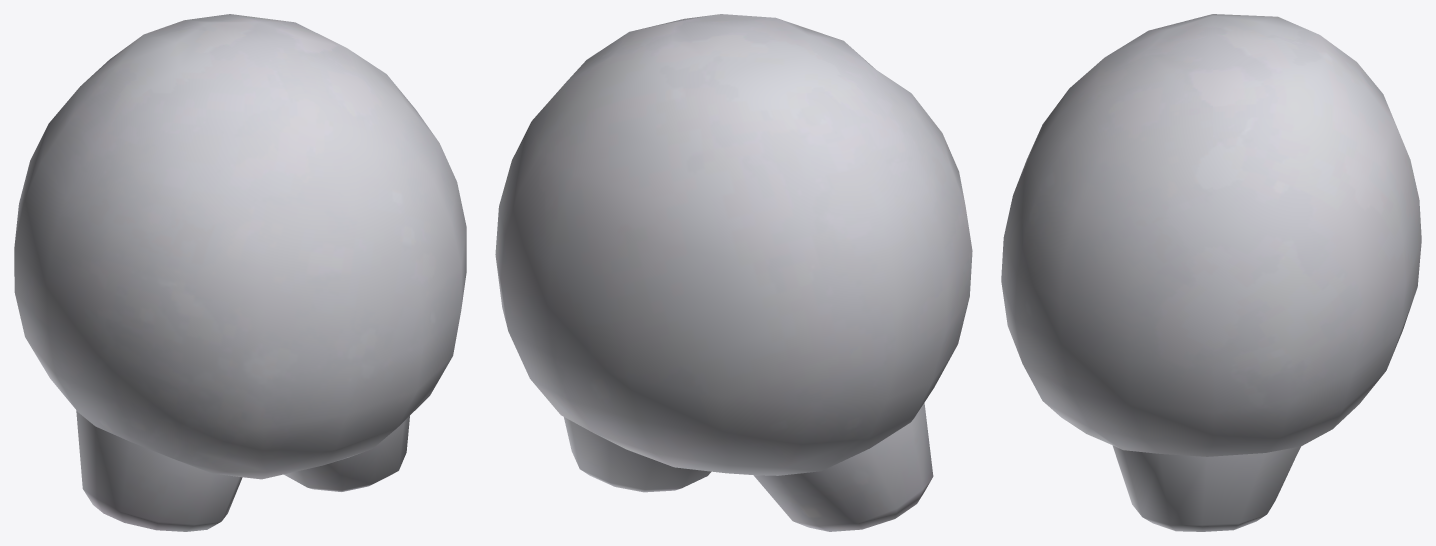
File: Homeworld_Exterior_Common_Prop_Thing_SnowmanBody_04_Vo.fbx
3 renders of one model, left to right at view 1: azimuth 30°, elevation 25°; view 2: azimuth 150°, elevation 25°; view 3: azimuth 270°, elevation 25°, orthographic. The views are drawn at different scales.
Parts seen in each view (by area): view 1: Homeworld_Exterior_Common_Prop_Thing_SnowmanBody_04_Vo; view 2: Homeworld_Exterior_Common_Prop_Thing_SnowmanBody_04_Vo; view 3: Homeworld_Exterior_Common_Prop_Thing_SnowmanBody_04_Vo.
Part boxes in pixels (x1=…): Homeworld_Exterior_Common_Prop_Thing_SnowmanBody_04_Vo: x1=14, y1=14, x2=466, y2=531; Homeworld_Exterior_Common_Prop_Thing_SnowmanBody_04_Vo: x1=495, y1=14, x2=972, y2=531; Homeworld_Exterior_Common_Prop_Thing_SnowmanBody_04_Vo: x1=1001, y1=14, x2=1421, y2=531.
Bounding box in the file's own units: 0.7811 × 0.8391 × 0.7313.
